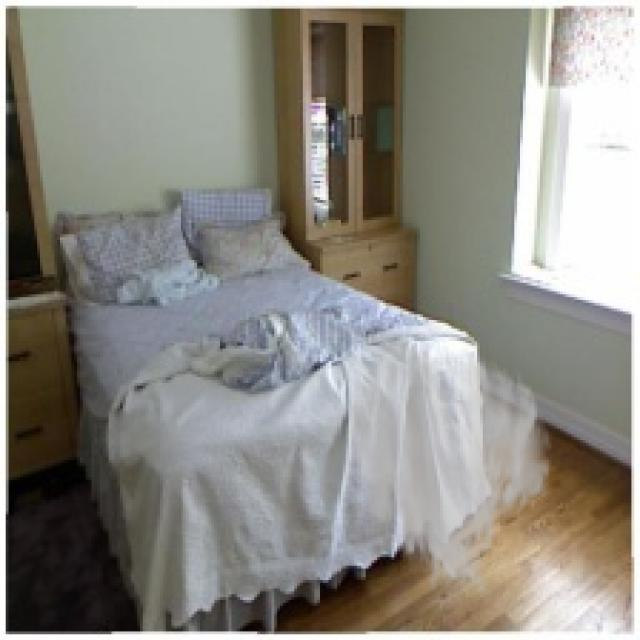smoke: (346, 334, 554, 600)
